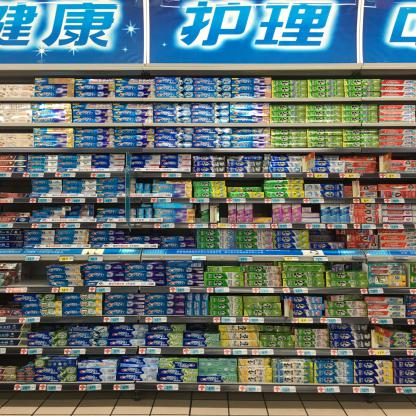Void: (128, 228, 194, 238), (307, 228, 346, 241), (328, 259, 364, 273), (21, 265, 46, 282), (252, 200, 274, 219), (3, 180, 32, 192), (2, 353, 33, 364), (360, 178, 415, 184), (230, 178, 262, 188), (185, 323, 214, 333), (0, 294, 21, 307), (393, 153, 416, 162)
